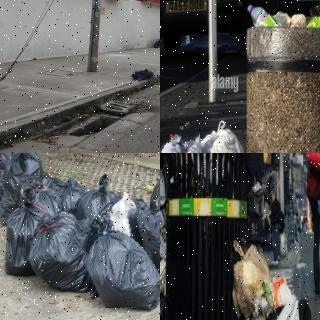Garbage: (79, 208, 160, 312), (27, 210, 91, 291), (228, 235, 272, 318), (3, 187, 35, 275), (76, 175, 118, 237), (202, 120, 246, 153), (143, 207, 160, 291), (160, 125, 207, 153), (6, 153, 42, 187), (0, 153, 8, 216), (149, 166, 160, 207), (131, 68, 155, 82)
